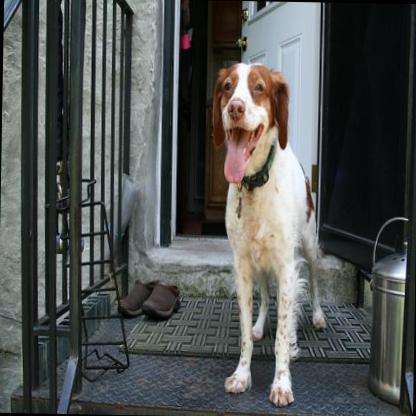Brittany_spaniel: (204, 56, 331, 407)
